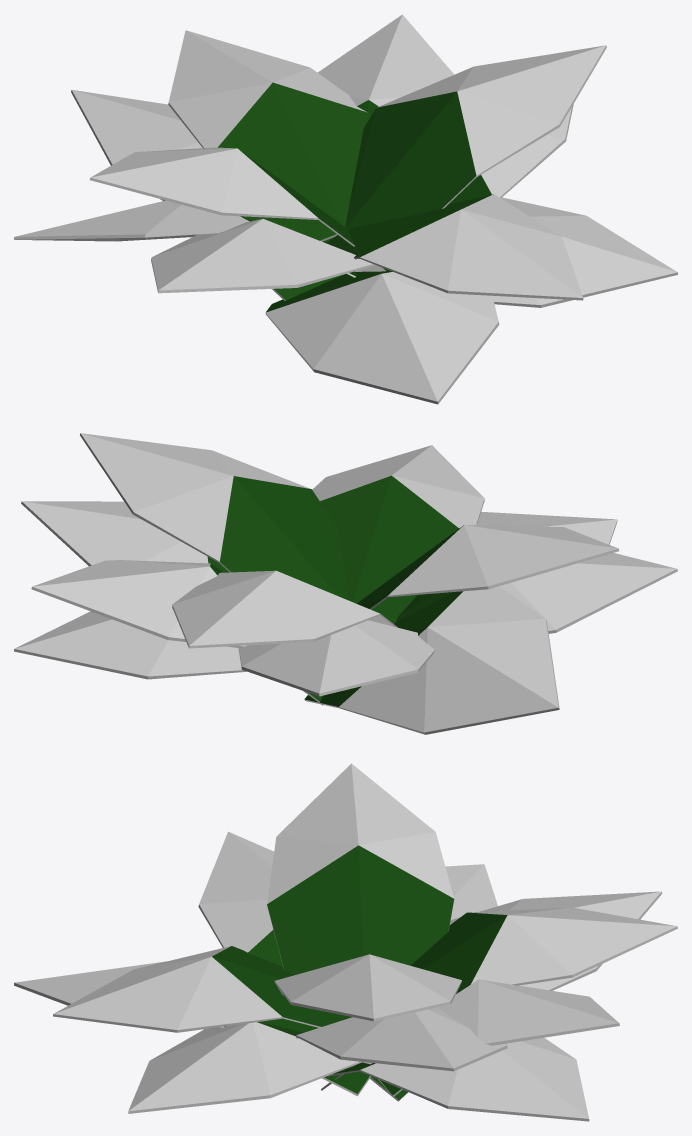
File: PlantWSnow_01.obj
3 views of the same model, one above another, from view 1: azimuth 30°, elevation 25°; view 2: azimuth 150°, elevation 25°; view 3: azimuth 270°, elevation 25° (orthographic). The views are drawn at different scales.
Visible parts, largest first — view 1: PlantWSnow1_Cube.012; view 2: PlantWSnow1_Cube.012; view 3: PlantWSnow1_Cube.012.
Part boxes in pixels (box(x1,y1,x2,y2)): PlantWSnow1_Cube.012: box(14, 14, 677, 404); PlantWSnow1_Cube.012: box(14, 433, 677, 734); PlantWSnow1_Cube.012: box(14, 763, 677, 1121).
Size of the model in its own units: 3.03 by 1.07 by 3.23.
